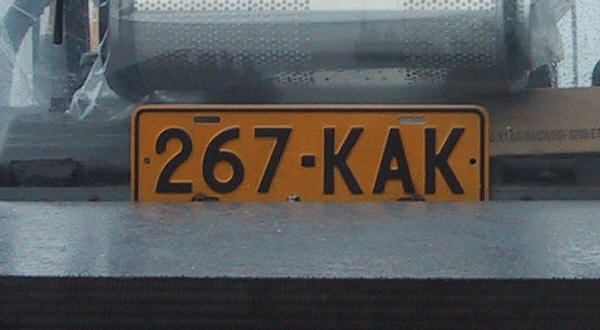license_plate: (132, 105, 488, 203)
